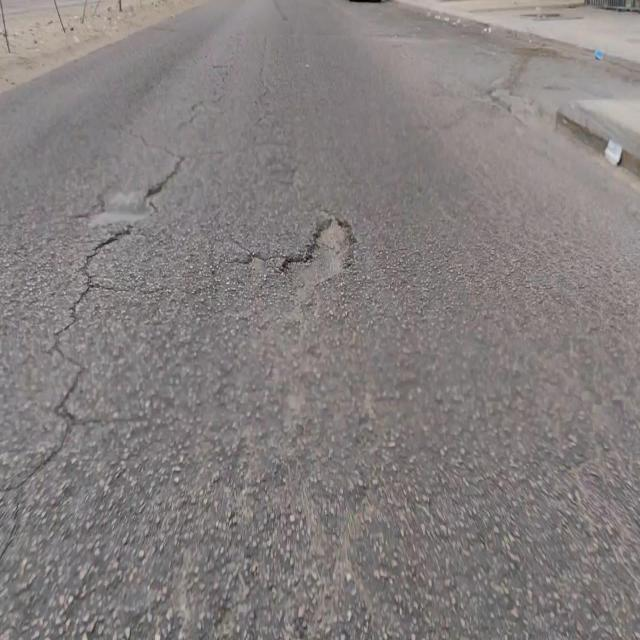Pothole: (278, 215, 358, 288)
